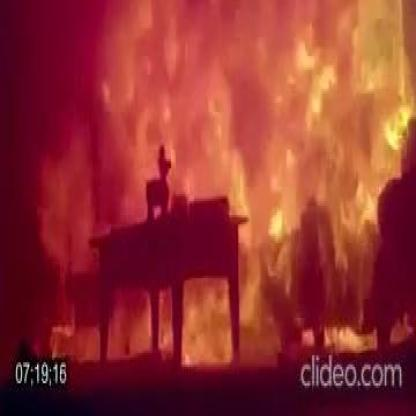fire: (238, 140, 377, 355), (170, 0, 304, 196), (307, 0, 416, 173), (40, 145, 96, 276), (183, 280, 230, 360), (42, 313, 100, 360), (110, 292, 150, 360), (158, 288, 174, 362)
